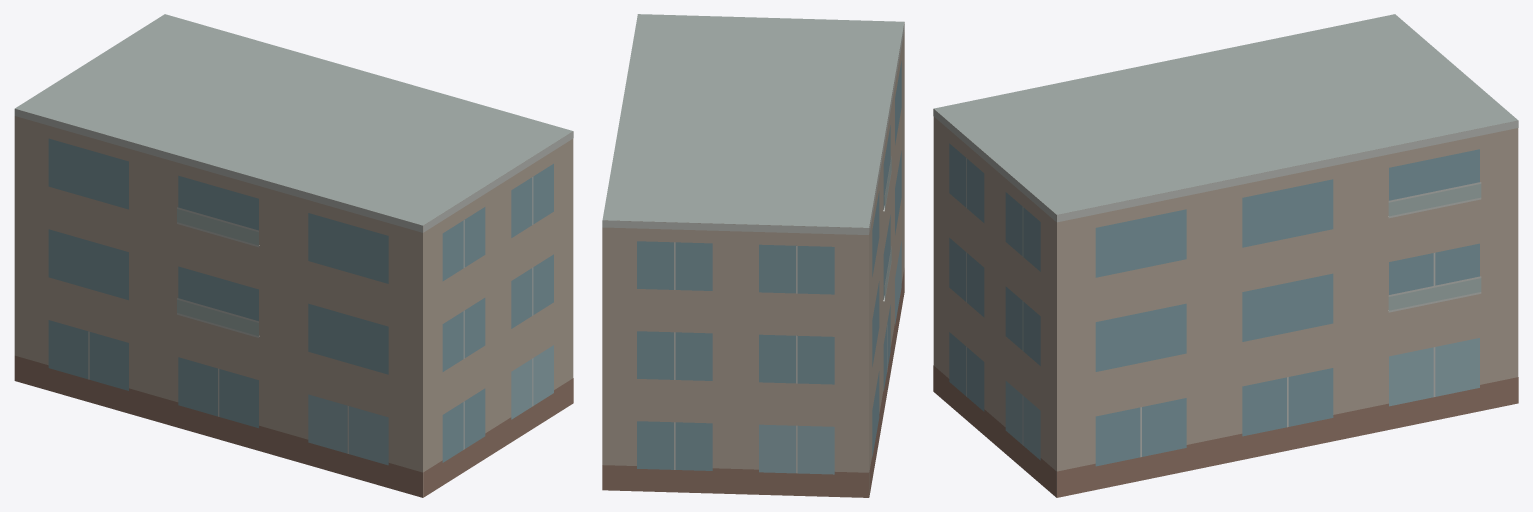
File: survey-upis-32704608.glb
3 views of the same model, side by side, from view 1: azimuth 30°, elevation 25°; view 2: azimuth 150°, elevation 25°; view 3: azimuth 270°, elevation 25° (orthographic). The views are drawn at different scales.
Visible parts, largest first — view 1: survey-upis-32704608.tmp; view 2: survey-upis-32704608.tmp; view 3: survey-upis-32704608.tmp.
Part boxes in pixels (x1,y1,x2,y2): survey-upis-32704608.tmp: (14, 14, 573, 497); survey-upis-32704608.tmp: (602, 14, 904, 497); survey-upis-32704608.tmp: (933, 14, 1518, 497).
Bounding box in the file's own units: 13.94 × 9.15 × 17.15.
